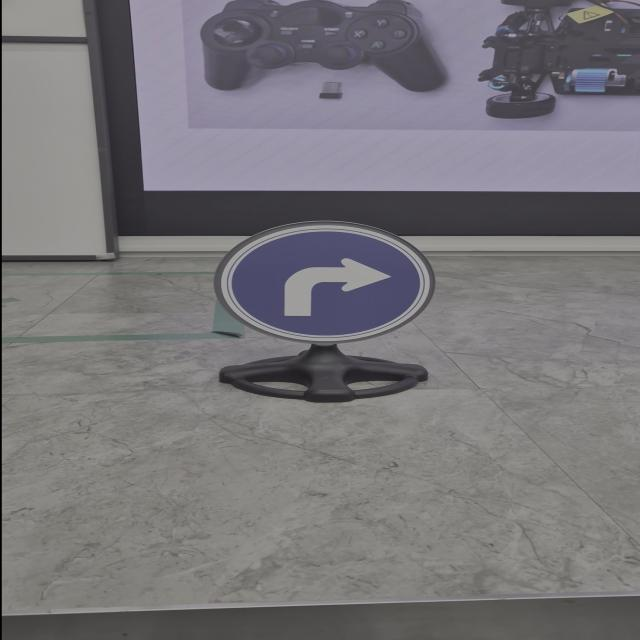right_dierection: (192, 221, 449, 341)
